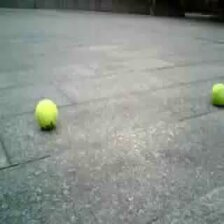tennis: (36, 99, 57, 126), (211, 82, 224, 104)
